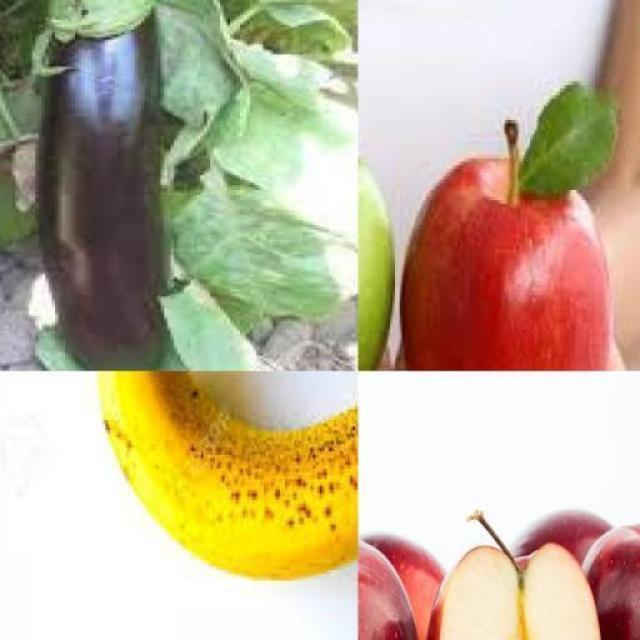Eggplant: (35, 0, 160, 371)
